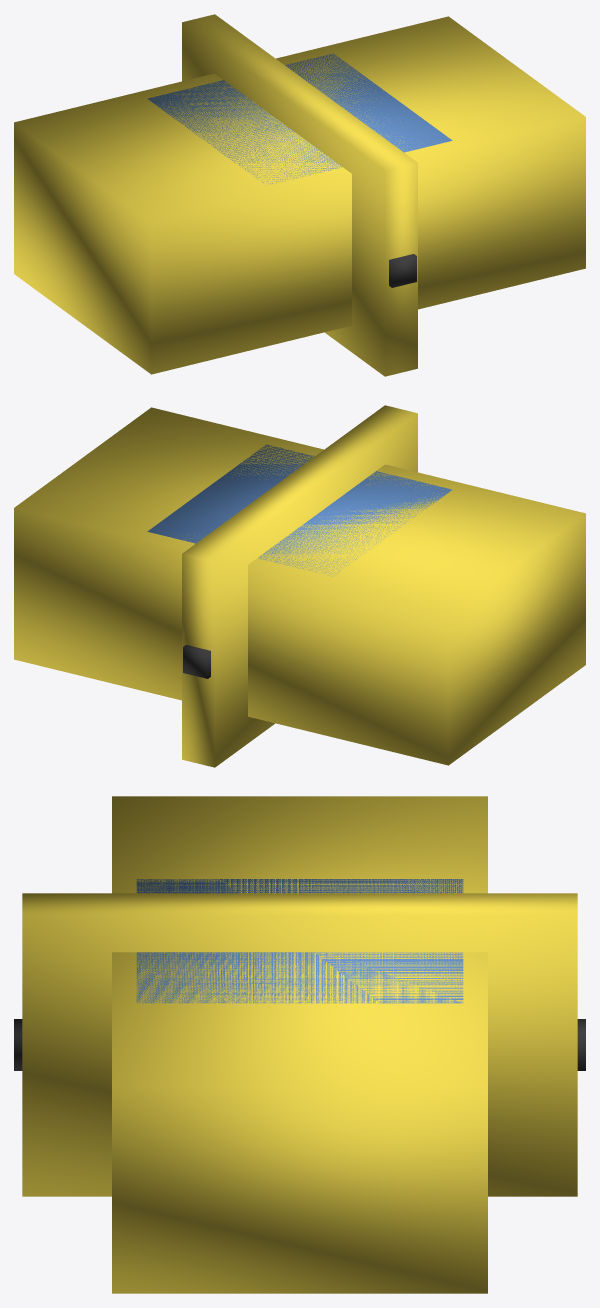
Rendered from dozer.glb.
The picture shows the model from 3 angles, top to bottom: view 1: azimuth 30°, elevation 25°; view 2: azimuth 150°, elevation 25°; view 3: azimuth 270°, elevation 25°; orthographic projection. The views are drawn at different scales.
Visible parts, largest first — view 1: CX_DozerBody, CX_DozerBlade, CX_DozerCab, CX_DozerBladeLip; view 2: CX_DozerBody, CX_DozerBlade, CX_DozerCab, CX_DozerBladeLip; view 3: CX_DozerBody, CX_DozerBlade, CX_DozerCab, CX_DozerBladeLip.
Part boxes in pixels (x1,y1,x2,y2): CX_DozerBody: [14, 16, 585, 374]; CX_DozerBlade: [182, 14, 417, 376]; CX_DozerCab: [147, 53, 452, 183]; CX_DozerBladeLip: [389, 254, 416, 287]; CX_DozerBody: [14, 407, 585, 765]; CX_DozerBlade: [182, 405, 417, 767]; CX_DozerCab: [147, 444, 452, 576]; CX_DozerBladeLip: [183, 645, 210, 678]; CX_DozerBody: [112, 796, 487, 1293]; CX_DozerBlade: [22, 893, 577, 1196]; CX_DozerCab: [136, 879, 463, 1003]; CX_DozerBladeLip: [14, 1019, 585, 1070].
Size of the model in its own units: 2.1 by 0.95 by 1.75.
